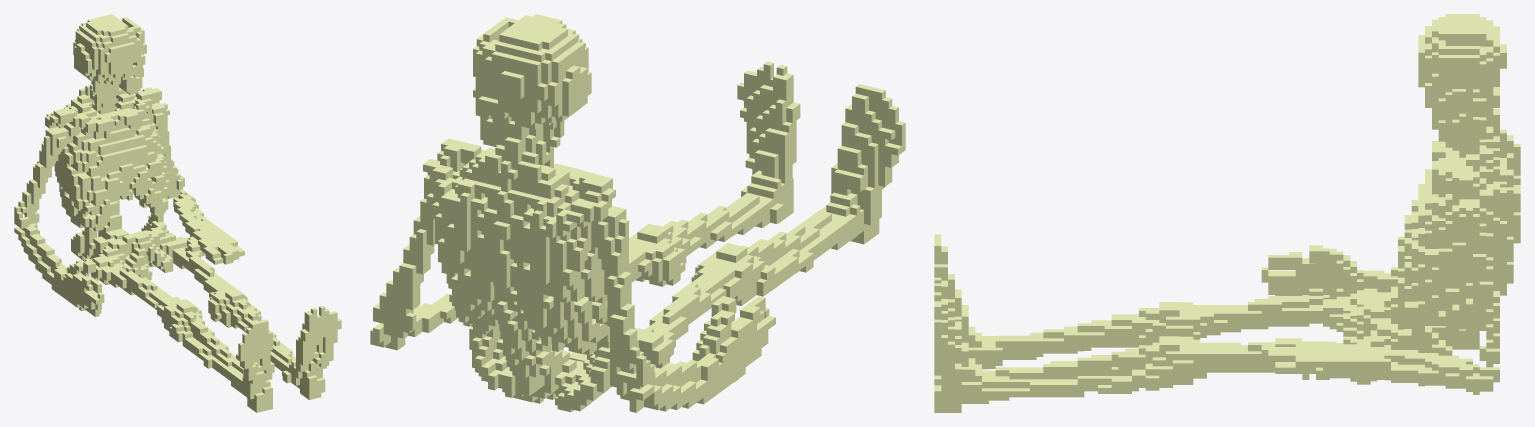
Rendered from skeleton_sitting_left.obj.
3 renders of one model, left to right at view 1: azimuth 30°, elevation 25°; view 2: azimuth 150°, elevation 25°; view 3: azimuth 270°, elevation 25°, orthographic. The views are drawn at different scales.
Size of the model in its own units: 42 by 59 by 86.
Materials: 1 (1 with a texture image).
